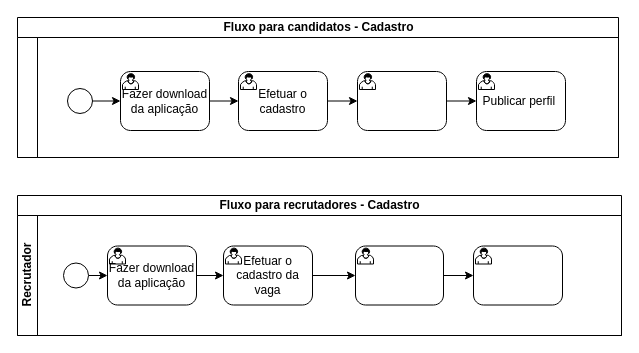
Some shapes in this 639 by 353 pixel diagram are drawn without their labels. Each missing label, with the box of its shape:
Candidato: (16, 36, 618, 158)
Preencher habilidades necessárias: (354, 245, 444, 305)
Preencher suas habilidades: (356, 70, 446, 130)
Publicar a vaga: (472, 245, 562, 305)
